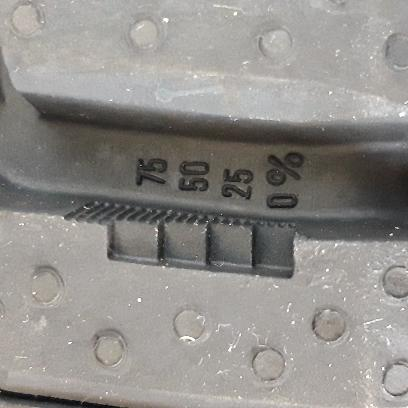temoin:100: (60, 197, 300, 283)
